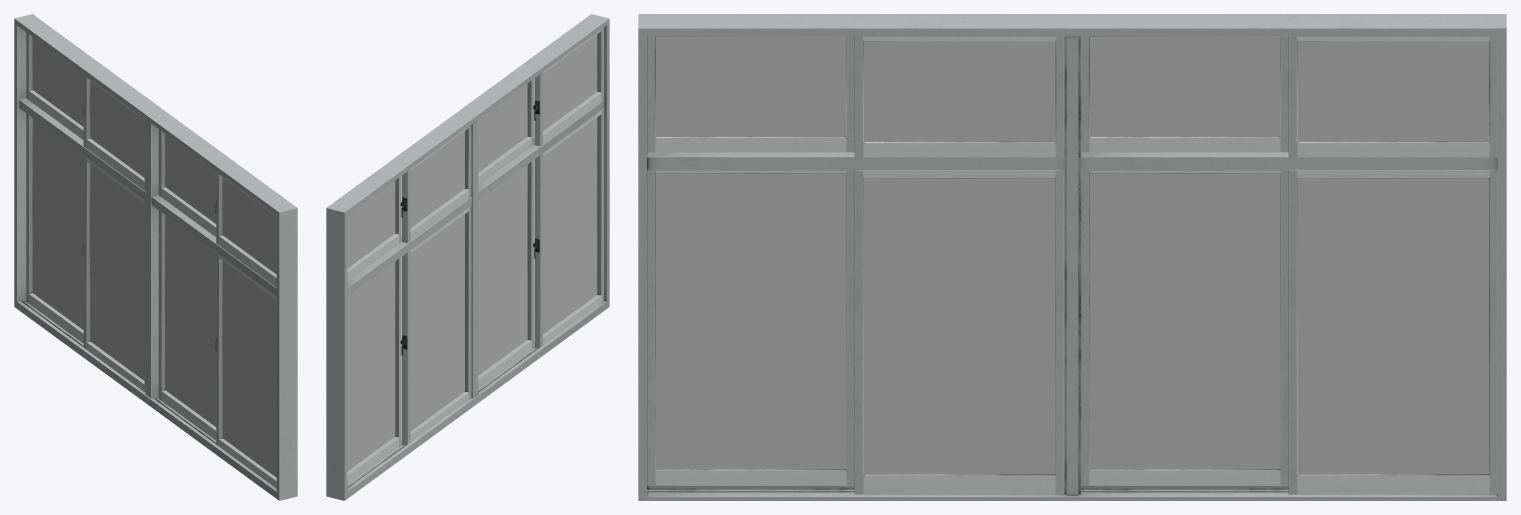
Rendered from SM_Window_300.fbx.
3 views of the same model, side by side, from view 1: azimuth 30°, elevation 25°; view 2: azimuth 150°, elevation 25°; view 3: azimuth 270°, elevation 25° (orthographic). The views are drawn at different scales.
Parts seen in each view (by area): view 1: SM_Window_300_LOD0; view 2: SM_Window_300_LOD0; view 3: SM_Window_300_LOD0.
Boxes of the visible parts, x1,y1,x2,y2 form: SM_Window_300_LOD0: (14,14,297,500); SM_Window_300_LOD0: (326,14,609,500); SM_Window_300_LOD0: (638,14,1506,500).
Bounding box in the file's own units: 12 × 300 × 180.
Materials: 2 (1 with a texture image).
